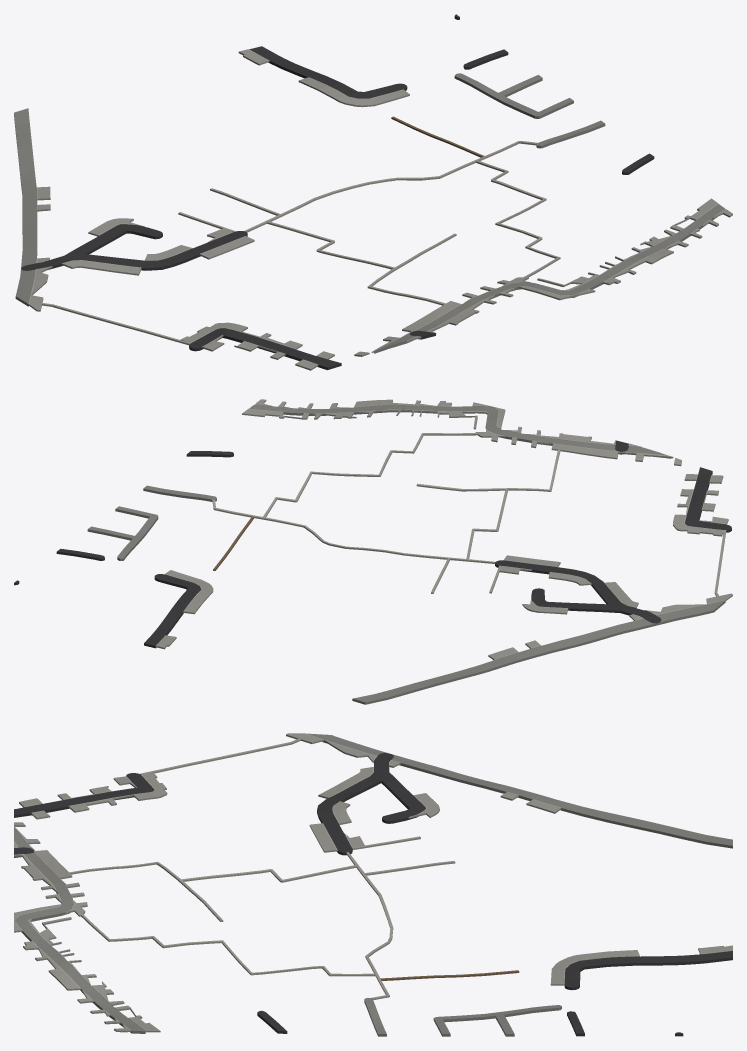
The picture shows the model from 3 angles, top to bottom: view 1: azimuth 30°, elevation 25°; view 2: azimuth 150°, elevation 25°; view 3: azimuth 270°, elevation 25°; orthographic projection. The views are drawn at different scales.
Bounding box in the file's own units: 293 × 12.62 × 291.
